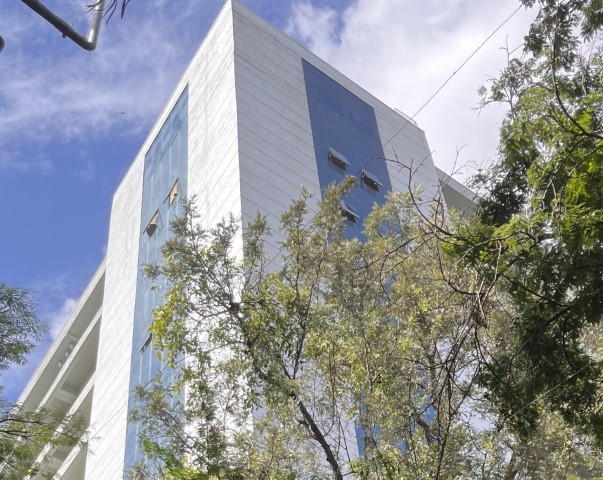Central Block: (91, 5, 464, 256)
